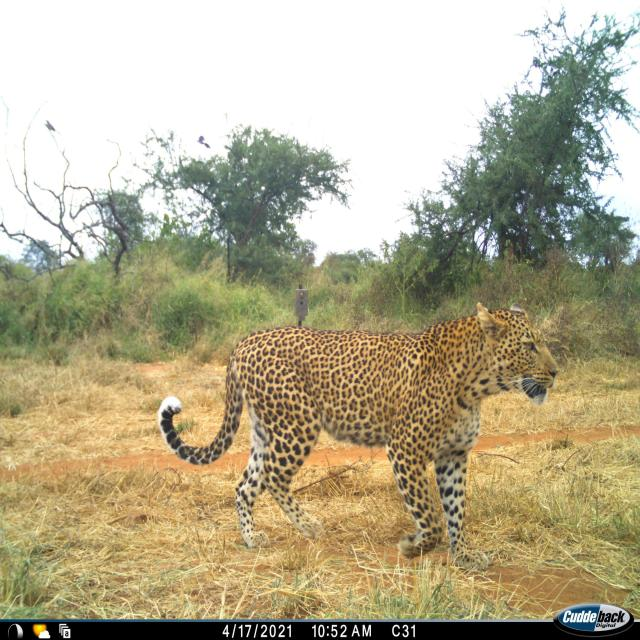Leopard: (151, 313, 574, 563)
